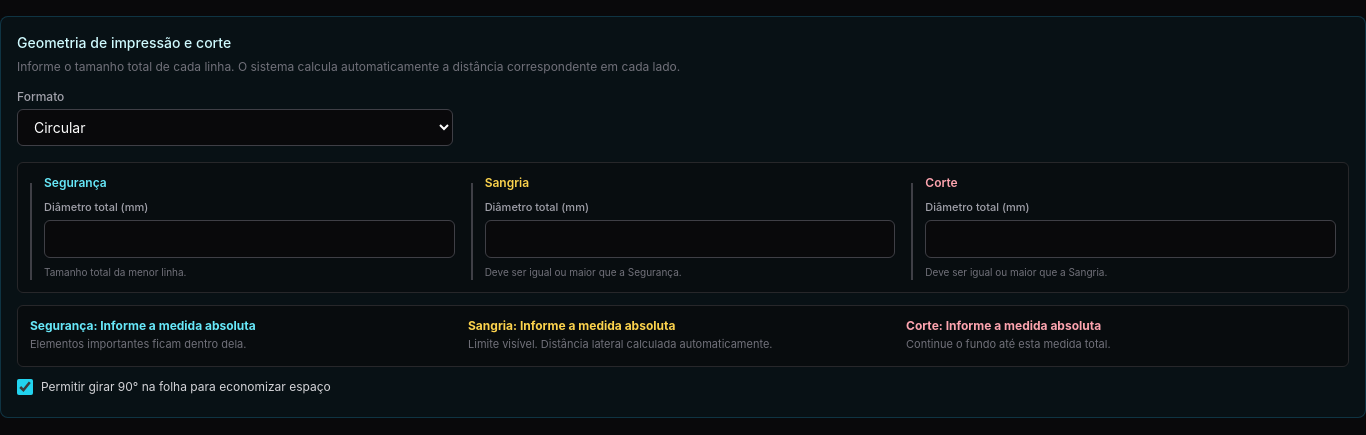
Scenario: print geometry fields › converts absolute diameters into internal per-side increments
The width and height of the screenshot is (1366, 435).
Type "53" into the number field named "Segurança · Diâmetro total" at (249, 238), box [44,220,455,258]
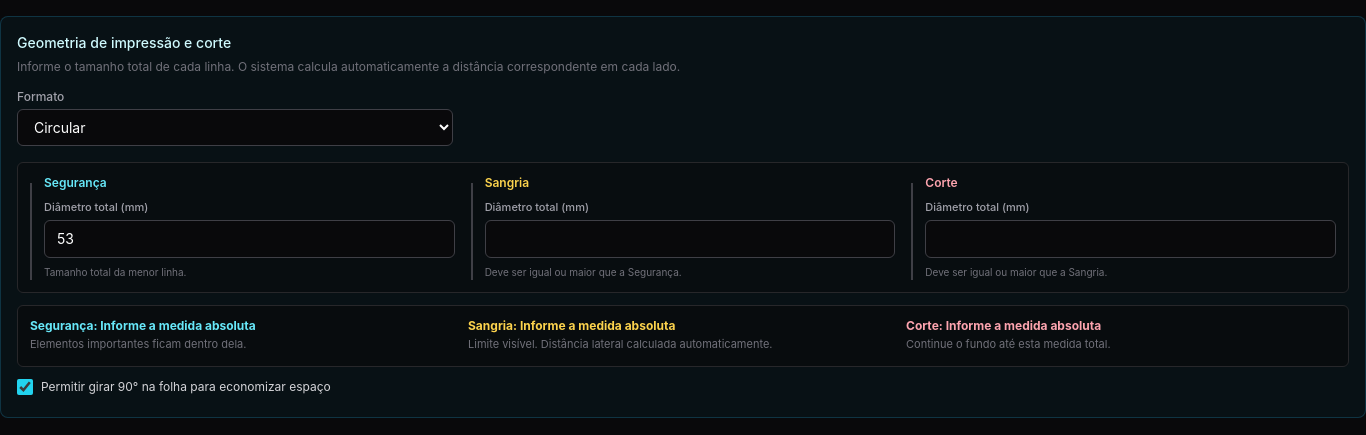
Type "56" into the number field named "Sangria · Diâmetro total" at (690, 238), box [485,220,895,258]
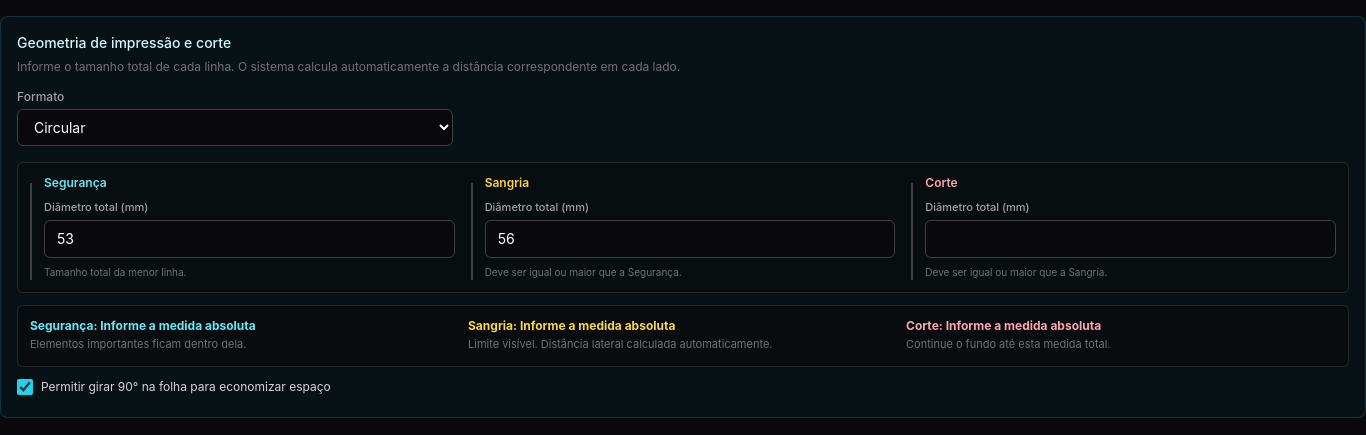
Type "59" into the number field named "Corte · Diâmetro total" at (1131, 238), box [925,220,1336,258]
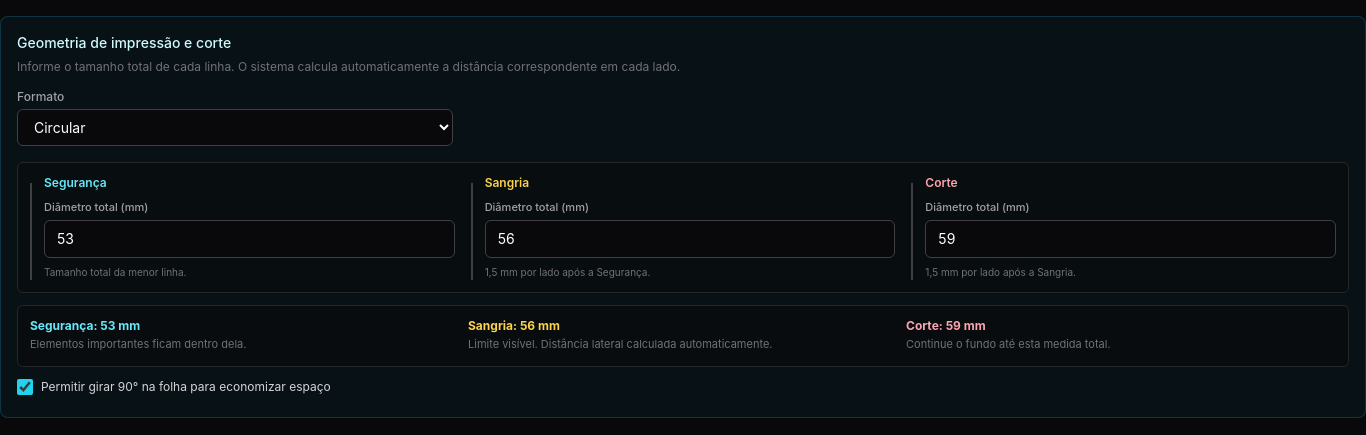
Expected: the text "Sangria: 56 mm" is shown, [468,318,560,332]
Expected: the text "Corte: 59 mm" is shown, [906,318,986,332]
